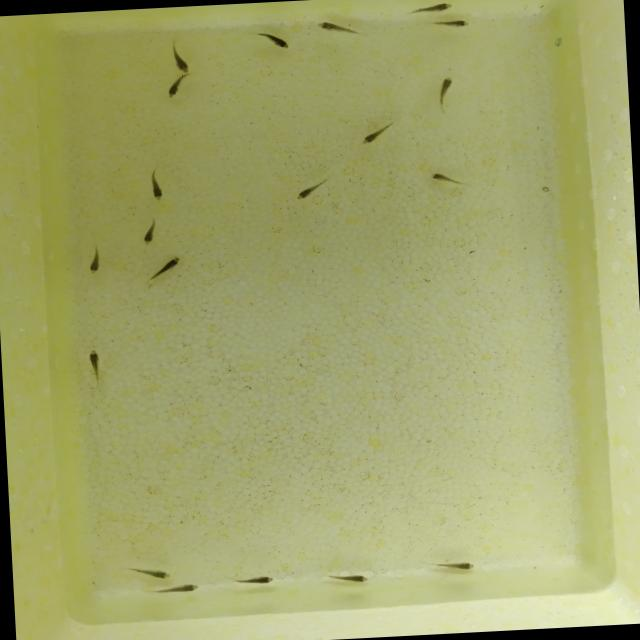fingerling: (354, 115, 404, 149), (140, 254, 187, 290), (289, 172, 336, 204), (428, 72, 460, 118), (246, 26, 294, 55), (82, 346, 111, 389), (315, 18, 370, 40), (426, 168, 480, 190), (225, 570, 281, 590), (398, 1, 461, 18), (122, 563, 174, 583), (320, 569, 376, 587), (430, 556, 480, 576), (167, 36, 193, 74), (148, 580, 207, 596), (82, 243, 108, 277), (137, 215, 163, 249), (428, 16, 476, 34), (146, 165, 167, 205), (164, 75, 189, 100)
